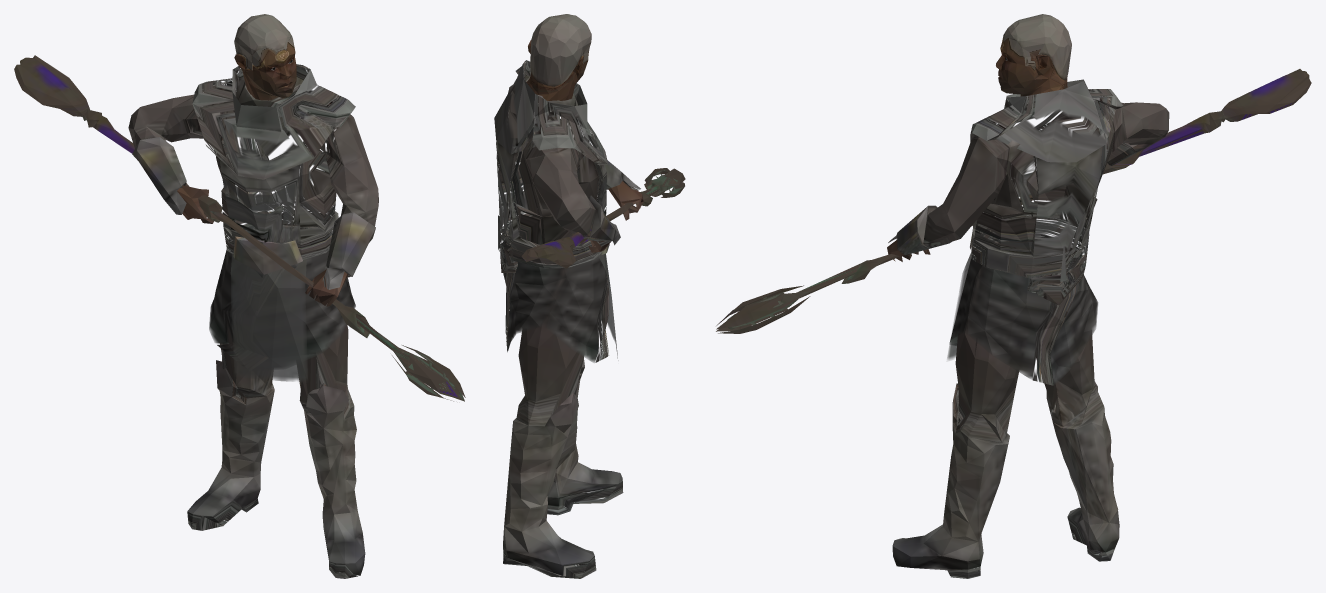
3 renders of one model, left to right at view 1: azimuth 30°, elevation 25°; view 2: azimuth 150°, elevation 25°; view 3: azimuth 270°, elevation 25°, orthographic. The views are drawn at different scales.
Parts seen in each view (by area): view 1: Tealc_Body_Tealc_Body_0, Circle.000_Jaffa_Staff_0, Tealc_Head_Tealc_Head_0; view 2: Tealc_Body_Tealc_Body_0, Tealc_Head_Tealc_Head_0, Circle.000_Jaffa_Staff_0; view 3: Tealc_Body_Tealc_Body_0, Circle.000_Jaffa_Staff_0, Tealc_Head_Tealc_Head_0.
Boxes of the visible parts, x1,y1,x2,y2 form: Tealc_Body_Tealc_Body_0: [128, 64, 378, 578]; Circle.000_Jaffa_Staff_0: [14, 55, 465, 401]; Tealc_Head_Tealc_Head_0: [234, 14, 296, 101]; Tealc_Body_Tealc_Body_0: [494, 60, 643, 578]; Tealc_Head_Tealc_Head_0: [526, 14, 591, 100]; Circle.000_Jaffa_Staff_0: [521, 168, 685, 268]; Tealc_Body_Tealc_Body_0: [887, 79, 1169, 578]; Circle.000_Jaffa_Staff_0: [716, 69, 1311, 333]; Tealc_Head_Tealc_Head_0: [996, 14, 1071, 97].
Size of the model in its own units: 0.7903 by 1.94 by 1.96.
Materials: 6 (5 with a texture image).
